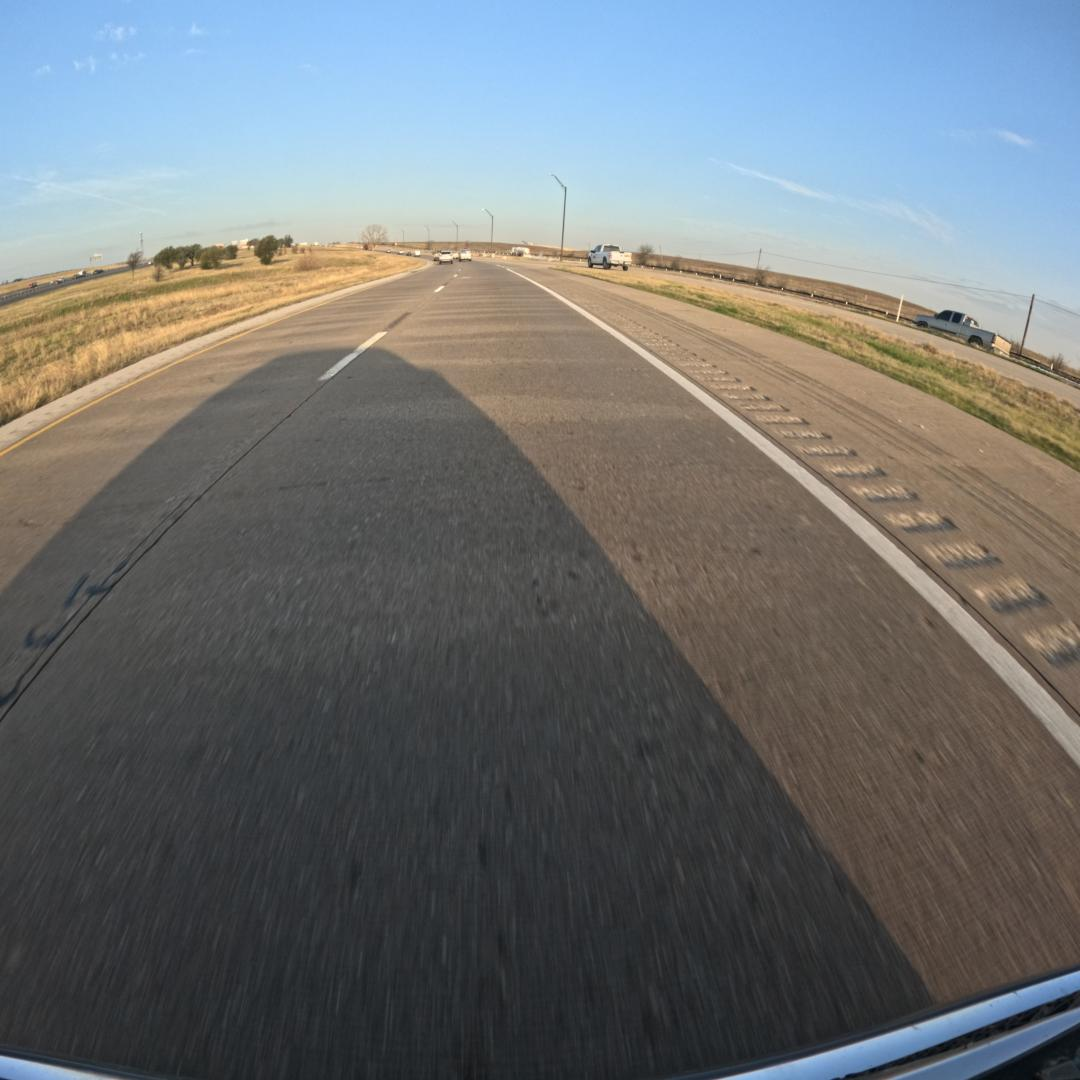lane0: (0, 266, 1080, 1076)
lane1: (0, 265, 460, 717)
